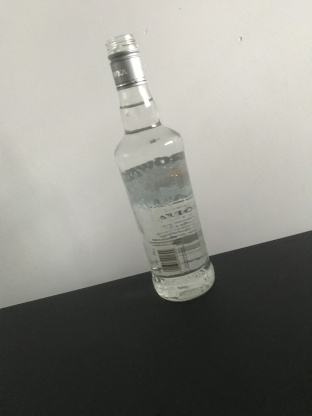nakretka: (103, 31, 148, 94)
